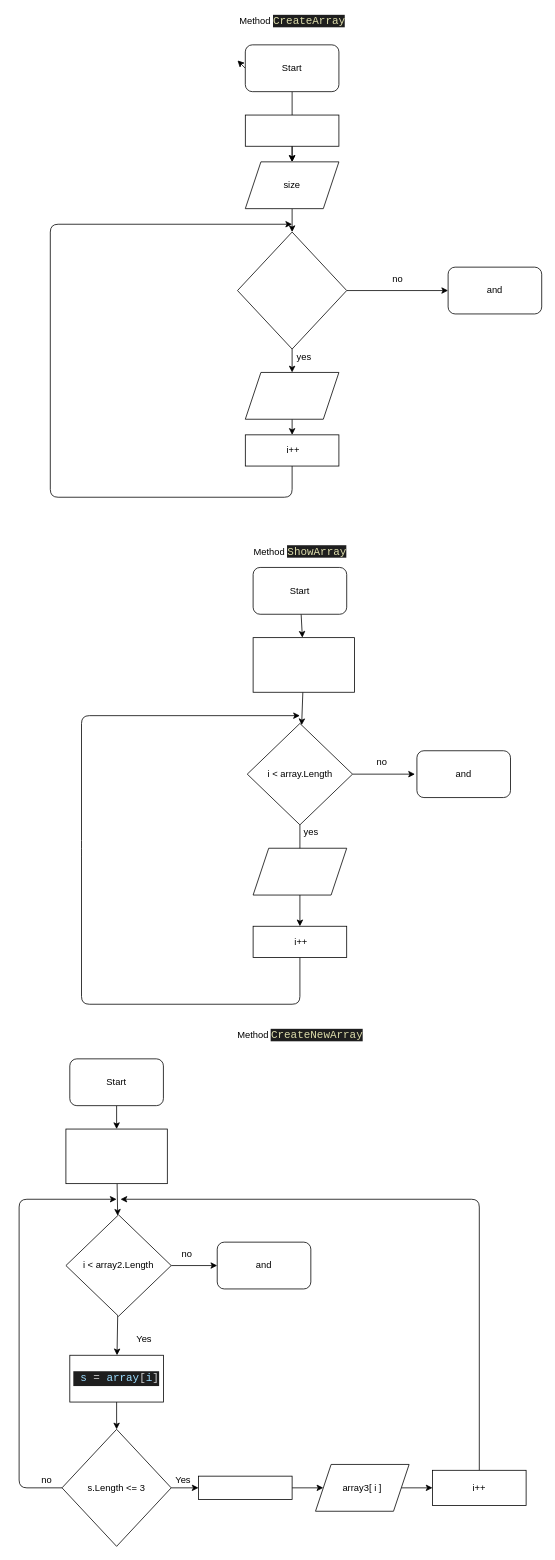
The diagram is 555 pixels wide and 1560 high, and some of its shapes have lost their labels. Here are the shapes that lost their labels. From the top down, the centre of each, then its label:
[292,130]: array = size i = 0
[292,290]: i < size
[292,395]: array [ i ]
[303,664]: i = 0; array2 = array.Length
[299,871]: array2[ i ]
[116,1156]: i = 0; array3 = array2.Length
[245,1487]: array3 = s
